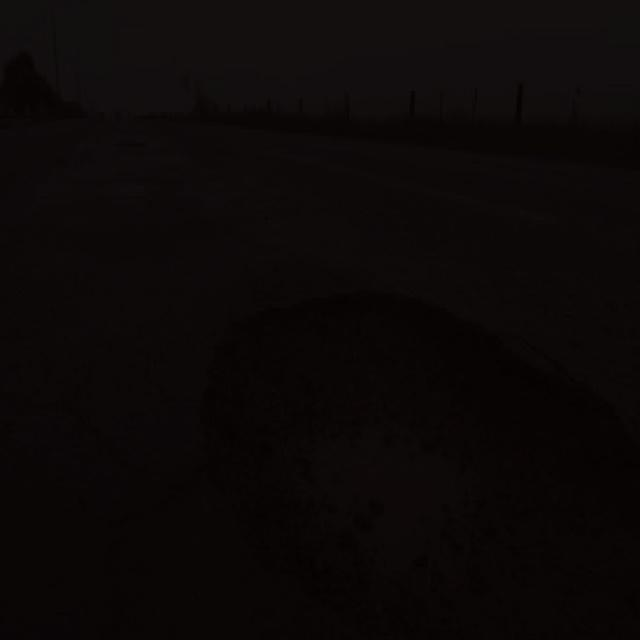Pothole: (179, 282, 640, 632)
